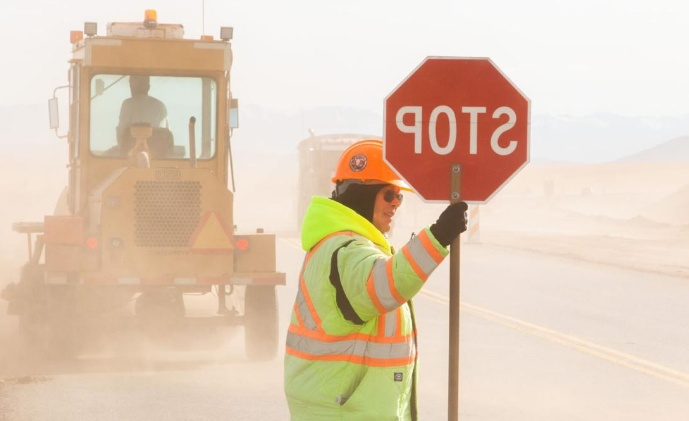Stop: (367, 41, 546, 222)
